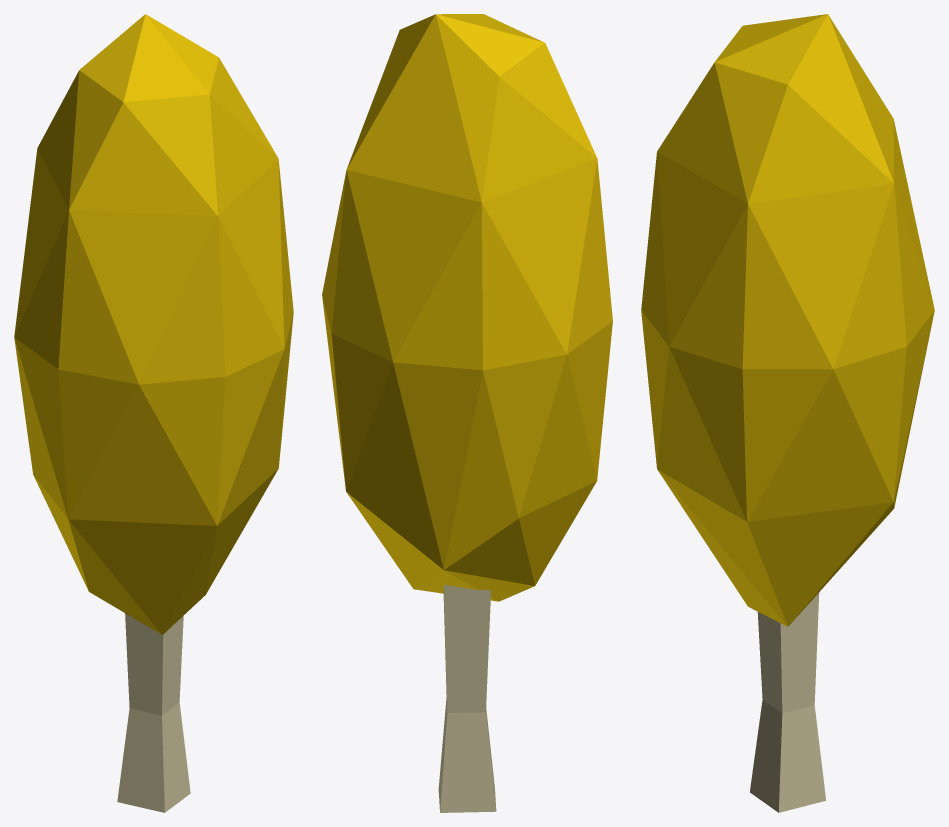
File: Aspin Tree.fbx
The picture shows the model from 3 angles, left to right: view 1: azimuth 30°, elevation 25°; view 2: azimuth 150°, elevation 25°; view 3: azimuth 270°, elevation 25°; orthographic projection. The views are drawn at different scales.
Visible parts, largest first — view 1: Icosphere, Cube; view 2: Icosphere, Cube; view 3: Icosphere, Cube.
Part boxes in pixels (x1,y1,x2,y2): Icosphere: (14,14,293,634); Cube: (117,613,190,812); Icosphere: (322,14,612,601); Cube: (438,584,496,812); Icosphere: (641,14,934,626); Cube: (750,592,825,812).
Size of the model in its own units: 167 by 519 by 175.
